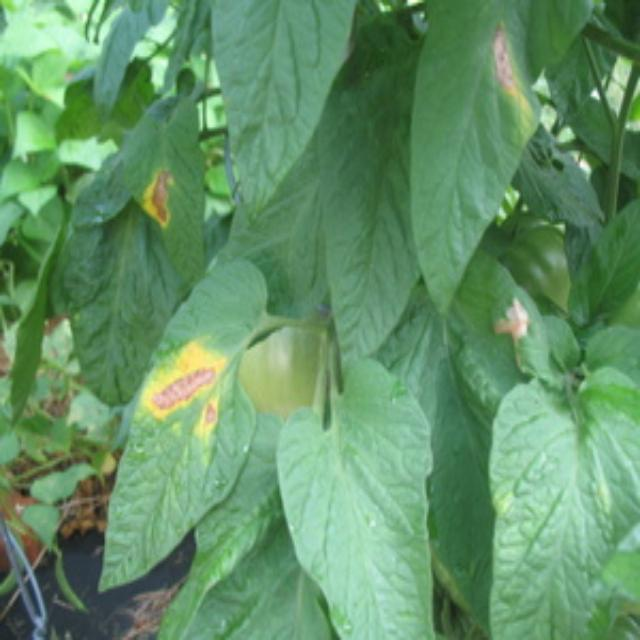Early_blight: (137, 339, 231, 442), (490, 20, 524, 102), (139, 167, 177, 229), (497, 293, 530, 348)
